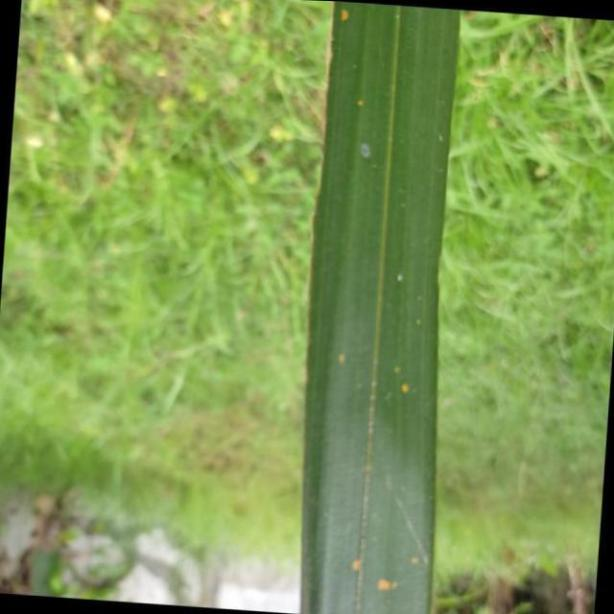Kalium: (306, 0, 460, 614)
